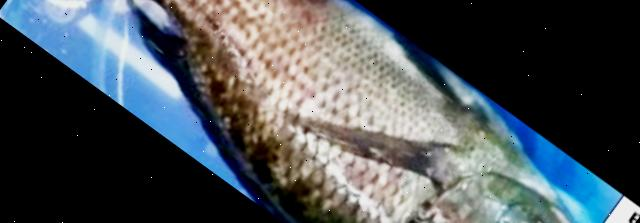Tilapia Lake Virus -TiLV-: (138, 0, 570, 223)
